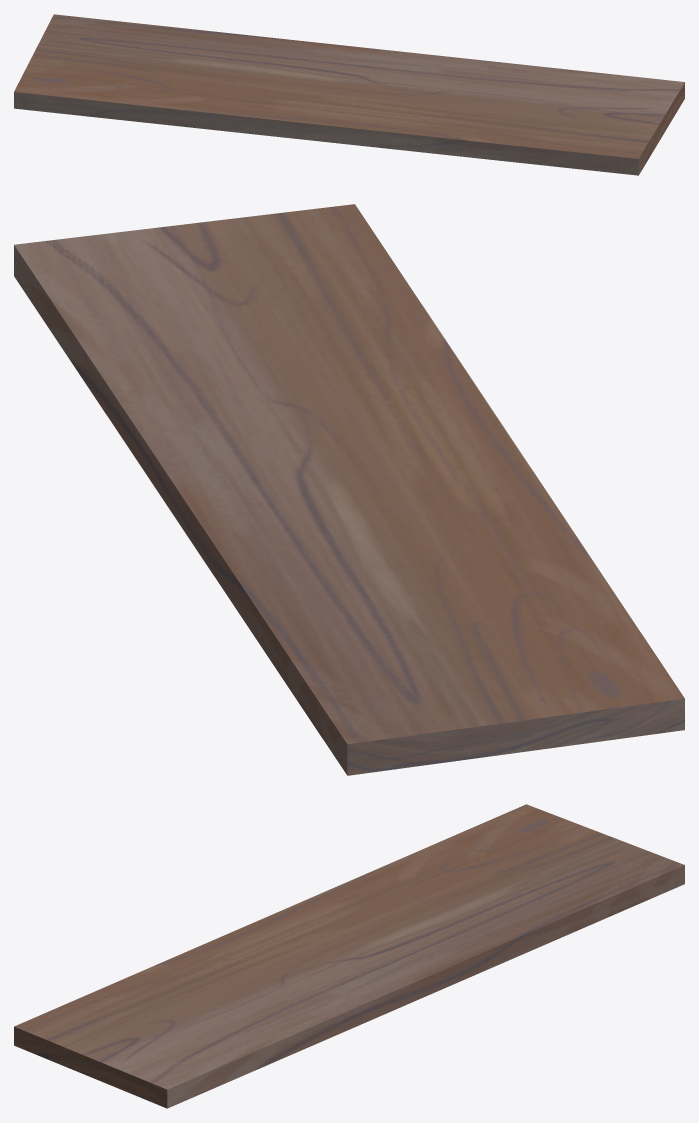
Rendered from plank_068.fbx.
3 views of the same model, one above another, from view 1: azimuth 30°, elevation 25°; view 2: azimuth 150°, elevation 25°; view 3: azimuth 270°, elevation 25° (orthographic). The views are drawn at different scales.
Visible parts, largest first — view 1: plank.068; view 2: plank.068; view 3: plank.068.
Part boxes in pixels (x1,y1,x2,y2): plank.068: [14, 14, 684, 175]; plank.068: [14, 204, 684, 775]; plank.068: [14, 804, 684, 1108].
Bounding box in the file's own units: 32.07 × 0.9957 × 31.86.
